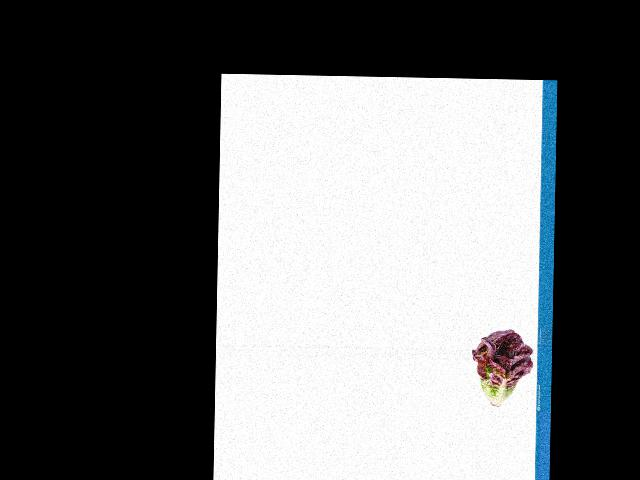lettuce: (473, 330, 533, 408)
